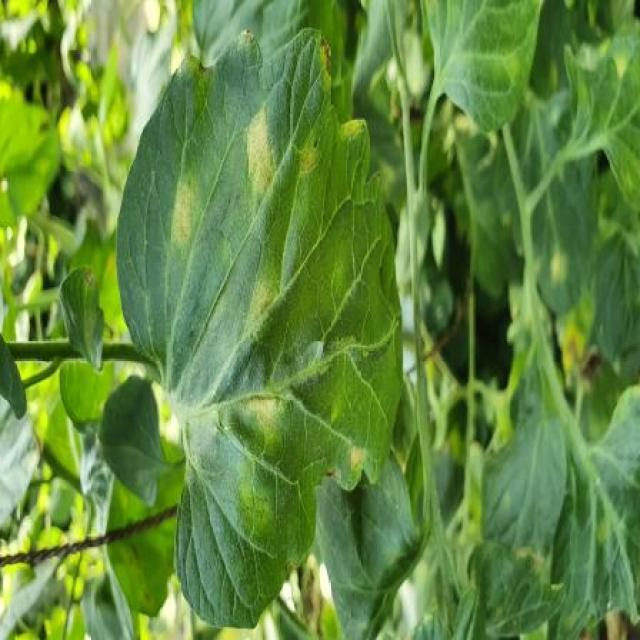Leaf Mold: (114, 23, 409, 640)
